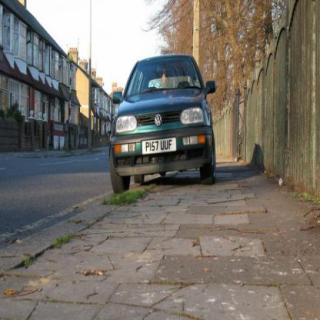Normal_vehicle: (110, 55, 215, 193)
